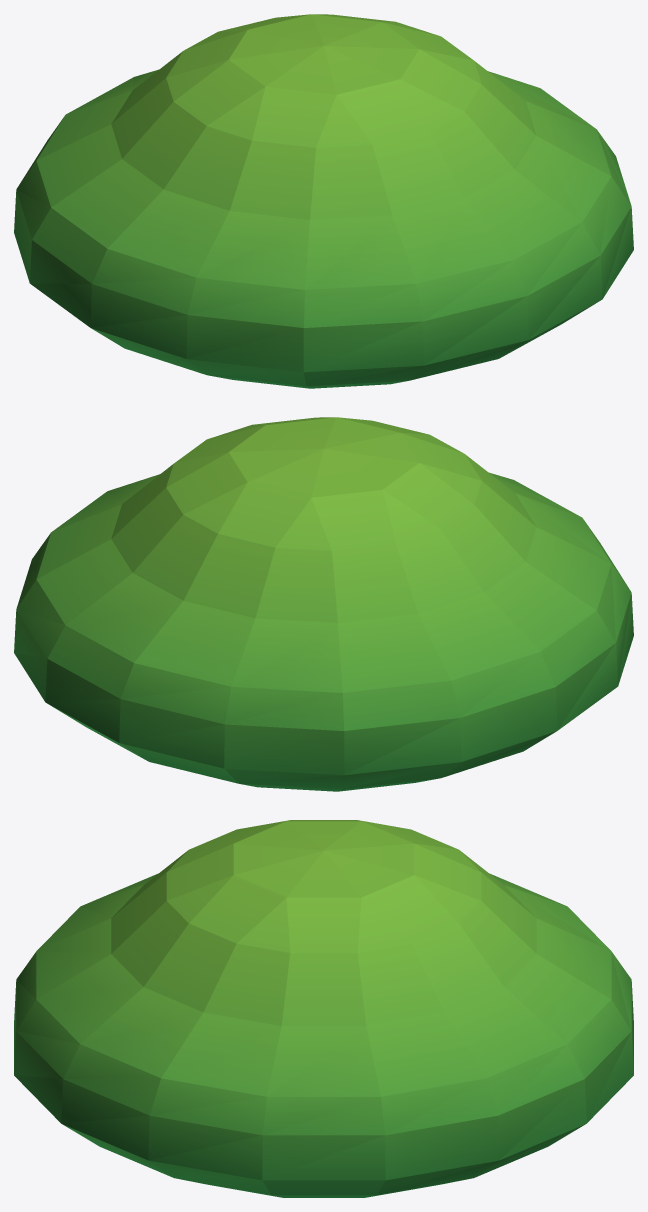
The model's file is kf_bush_3_b.fbx.
The picture shows the model from 3 angles, top to bottom: view 1: azimuth 30°, elevation 25°; view 2: azimuth 150°, elevation 25°; view 3: azimuth 270°, elevation 25°; orthographic projection.
Visible parts, largest first — view 1: kf_bush_3_b; view 2: kf_bush_3_b; view 3: kf_bush_3_b.
Part boxes in pixels (left/top/right/bottom): kf_bush_3_b: left=14, top=14, right=633, bottom=388; kf_bush_3_b: left=14, top=417, right=633, bottom=791; kf_bush_3_b: left=14, top=820, right=633, bottom=1197.
Bounding box in the file's own units: 2.69 × 1.29 × 2.69.
